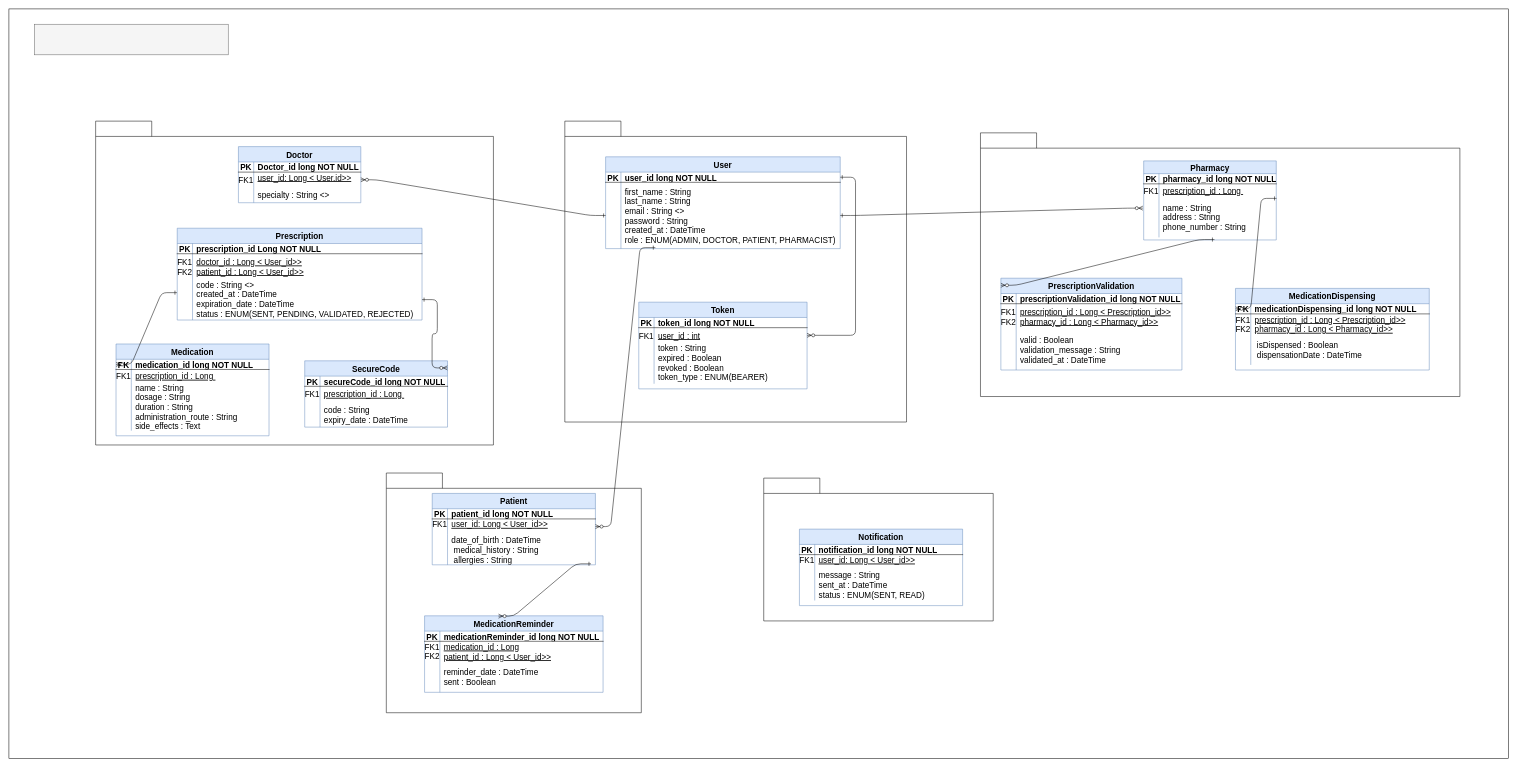
The diagram is 1517 pixels wide and 768 high, and some of its shapes have lost their labels. The shapes that lost their labels are listed below. From the top down, each one's box as (x1, y1, x2, y2) in pixels, then its label:
(34, 24, 228, 55): Databases_Schema
(95, 121, 493, 445): Prescription_db
(564, 121, 907, 422): Auth_db
(980, 132, 1460, 397): Pharmacy_db
(763, 478, 993, 621): Notification_db
(386, 473, 641, 713): Patient_db
